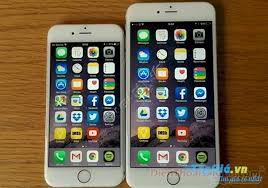iphone: (122, 1, 221, 188), (43, 21, 124, 187)
iphone6: (122, 1, 221, 187), (43, 22, 124, 188)
